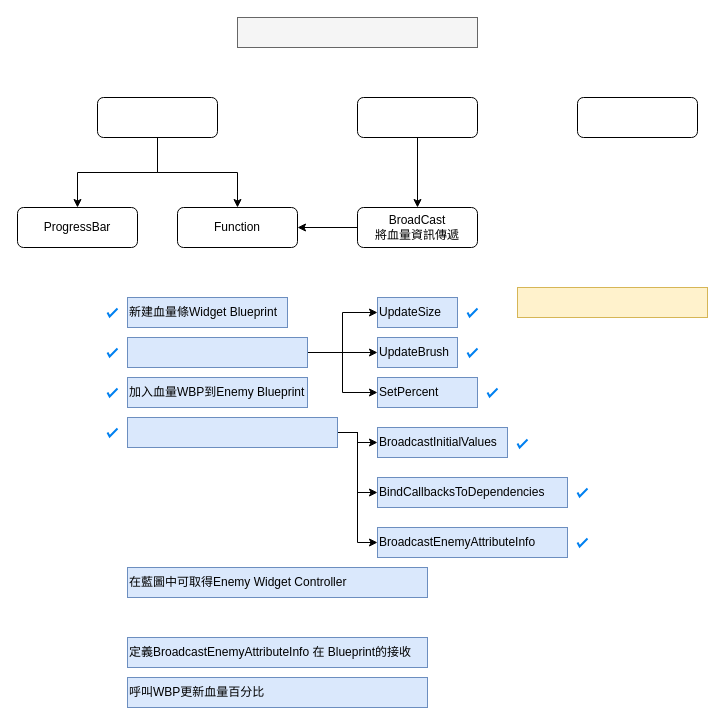
This 725x725 diagram has some shape labels left out. The shapes that lost their labels are listed below. From the top down, each one's centre as x and y in pixels, then its label:
(x=357, y=32): 需求：敵人頭上顯示血量條
(x=157, y=117): Widget Blueprint
(x=417, y=117): C++
(x=637, y=117): Blueprint
(x=612, y=302): BroadCast 會讓多個收到的問題?
(x=217, y=352): 新增WBP中更新Function
(x=232, y=432): 新增Enemy Widget Controller (C++)
